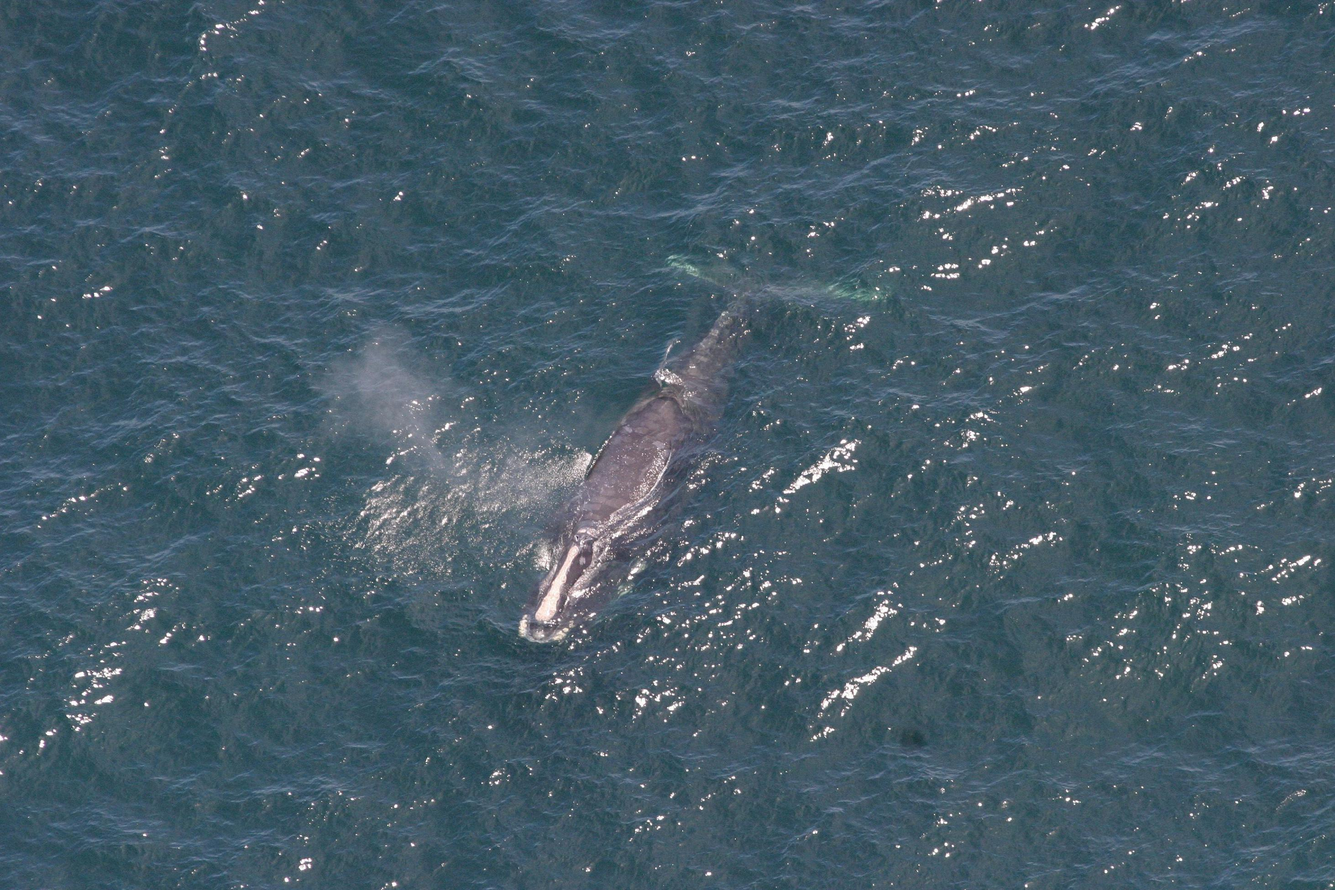whale: (507, 225, 894, 660)
